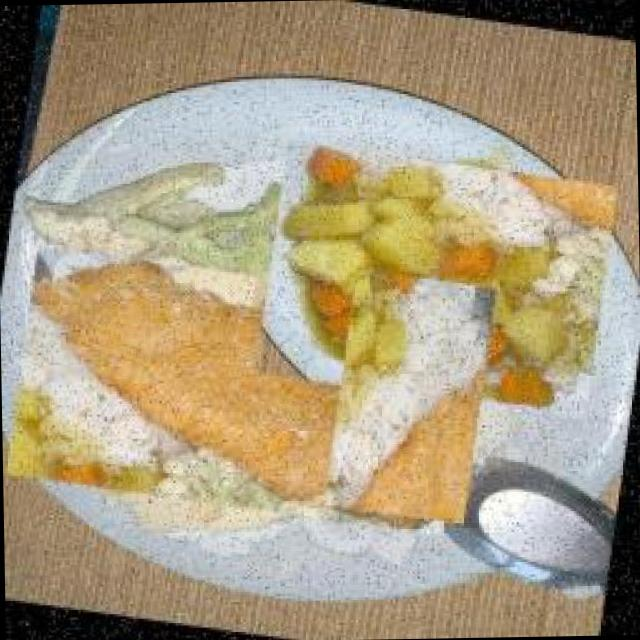curry: (249, 135, 622, 426)
fried_chicken: (1, 237, 479, 544)
rice: (299, 286, 522, 508)
